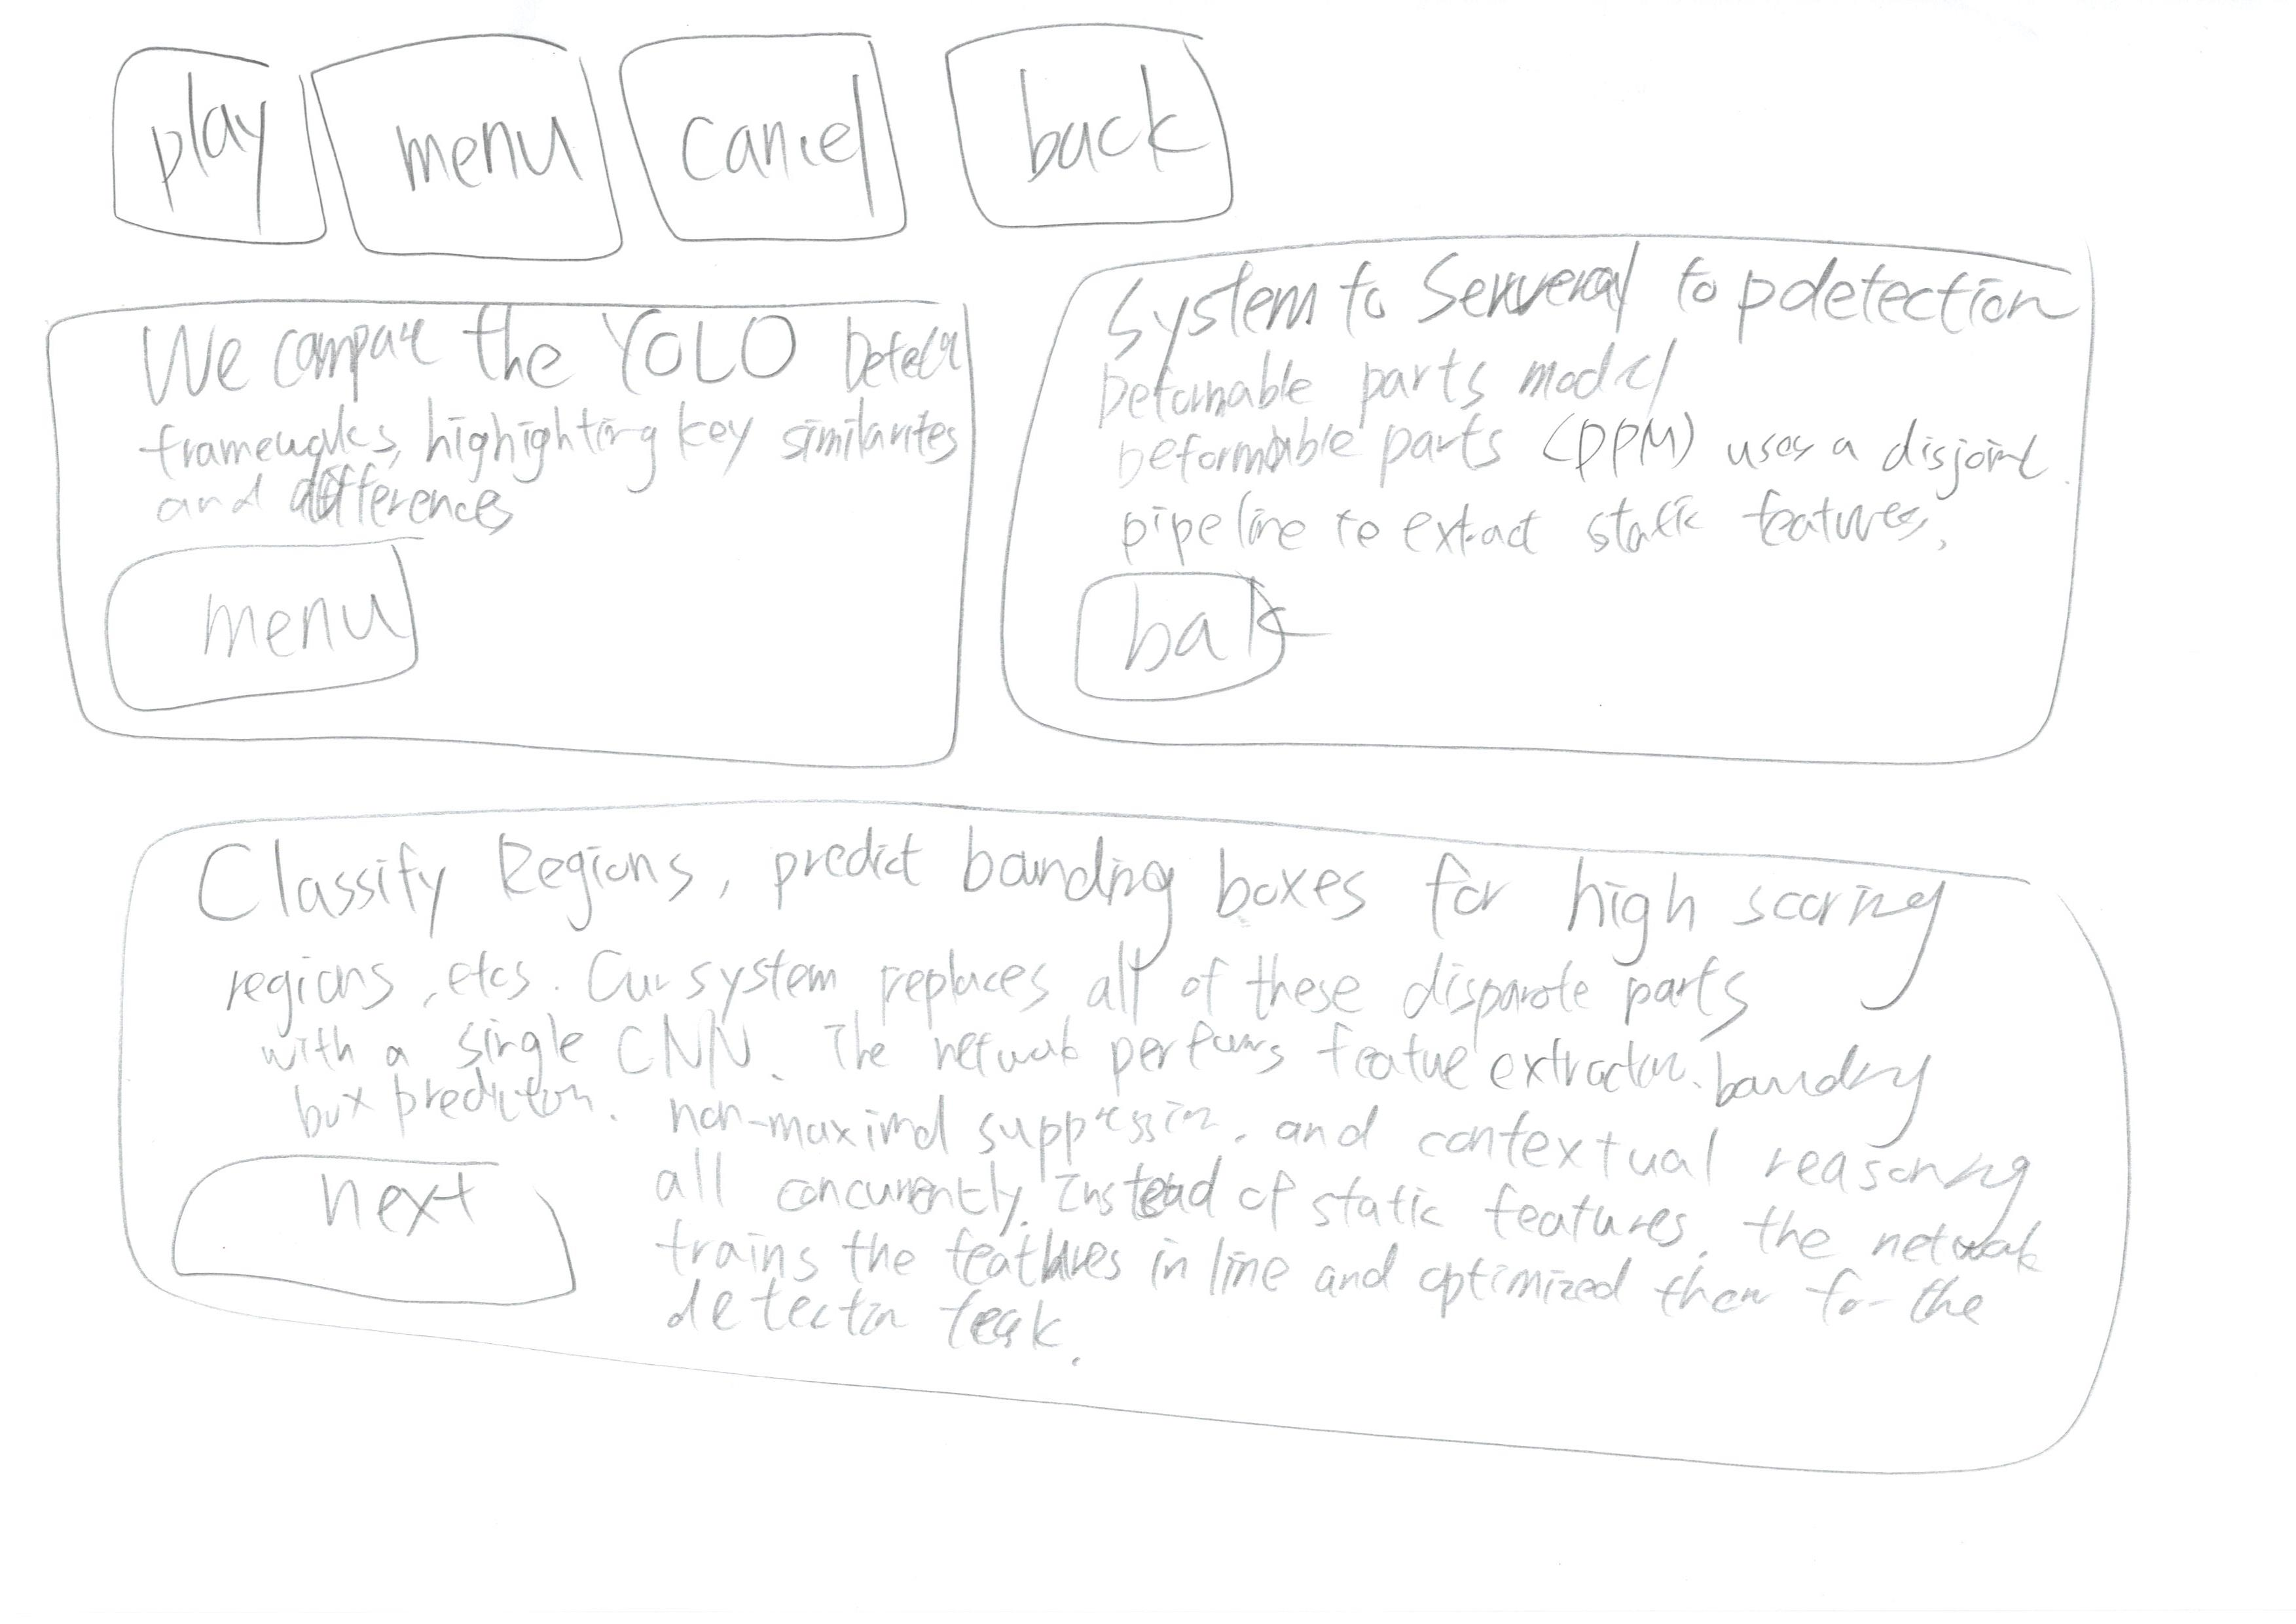back: (905, 0, 1248, 232), (1053, 557, 1338, 754)
cancel: (580, 2, 948, 267)
double: (985, 220, 2171, 816), (4, 269, 1020, 826)
menu: (295, 14, 636, 285), (79, 510, 482, 736)
next: (156, 1111, 614, 1360)
play: (42, 23, 323, 274)
row: (9, 782, 2296, 1485), (9, 246, 2296, 847), (16, 4, 2296, 295)
single: (28, 772, 2236, 1538)
small-title: (178, 835, 1923, 963), (1083, 246, 2057, 352), (127, 318, 958, 395)
text: (658, 953, 2050, 1376), (218, 939, 1934, 1137), (1102, 374, 2069, 562), (135, 387, 956, 522)
